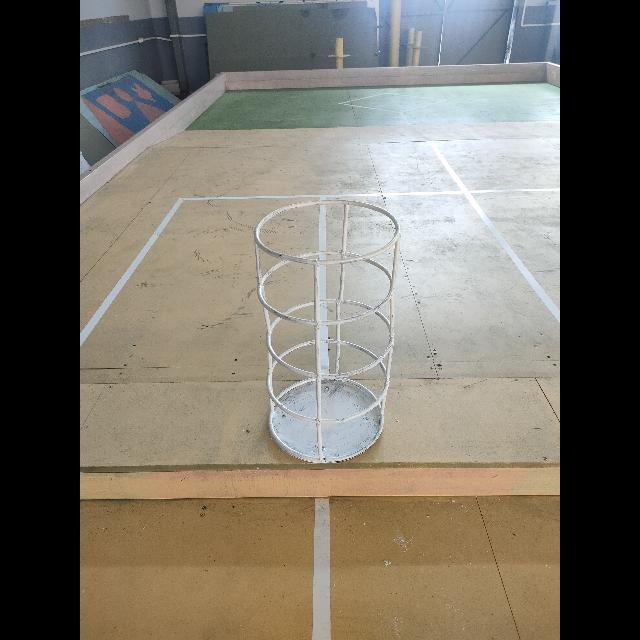S: (252, 190, 404, 468)
